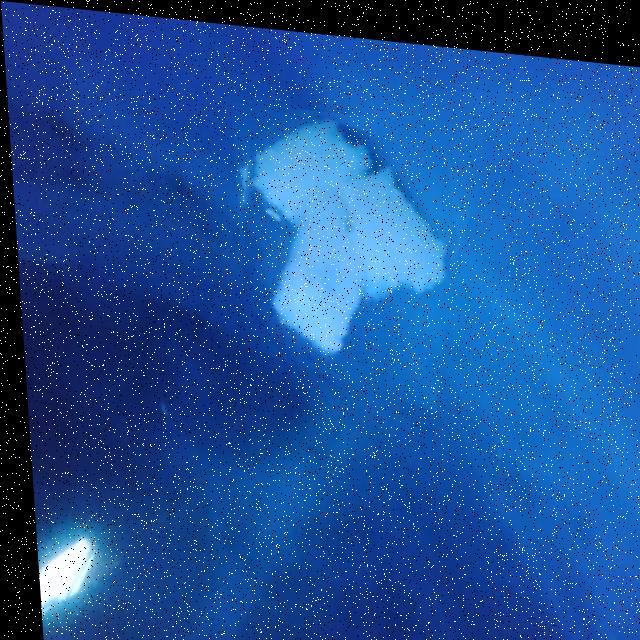thermocoal: (229, 96, 475, 395)
